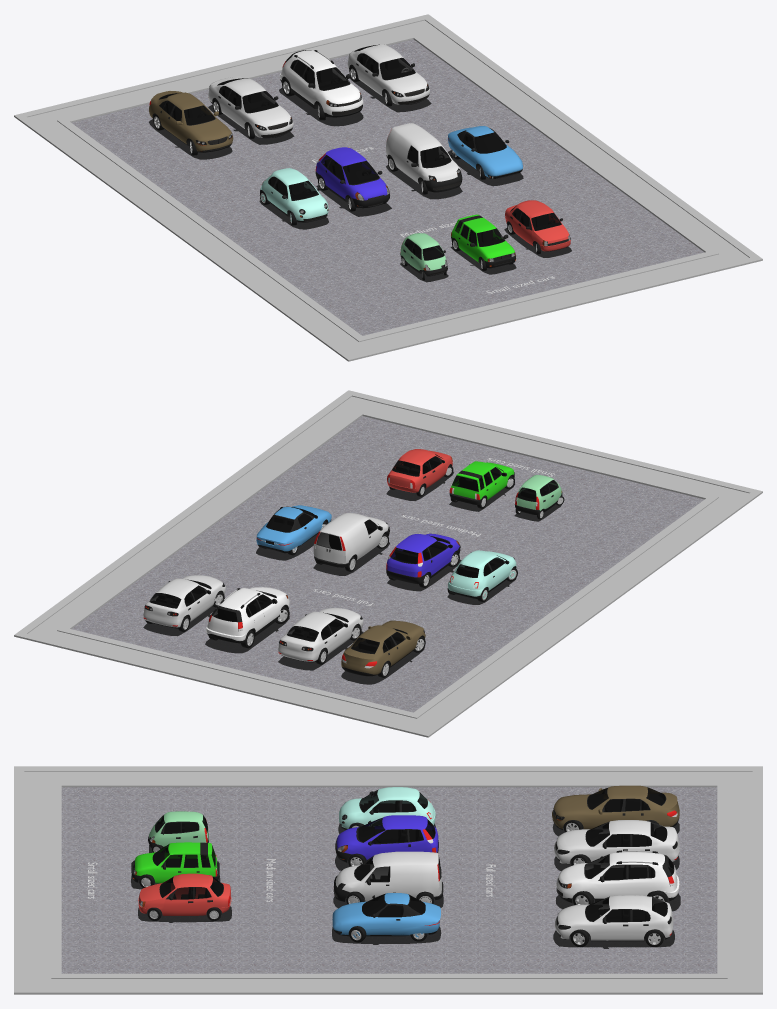
Rendered from TrafficCarPack.fbx.
3 renders of one model, top to bottom at view 1: azimuth 30°, elevation 25°; view 2: azimuth 150°, elevation 25°; view 3: azimuth 270°, elevation 25°, orthographic. The views are drawn at different scales.
Visible parts, largest first — view 1: Ground, CarBody.001, CarBody.009, CarBody.003, CarBody.002, CarBody2, CarBody.008, CarBody, CarBody.006, CarBody.004, CarBody.007, CarBody.005 (+3 smaller); view 2: Ground, CarBody.001, CarBody.002, CarBody.003, CarBody.009, CarBody2, CarBody.008, CarBody, CarBody.006, CarBody.004, CarBody.007, CarBody.005 (+3 smaller); view 3: Ground, CarBody.001, CarBody2, CarBody.009, CarBody.002, CarBody.003, CarBody, CarBody.008, CarBody.004, CarBody.007, CarBody.006, CarBody.005 (+3 smaller).
Part boxes in pixels (x1,y1,x2,y2): Ground: [14, 14, 762, 361]; CarBody.001: [279, 50, 363, 117]; CarBody.009: [386, 123, 462, 192]; CarBody.003: [208, 76, 293, 138]; CarBody.002: [149, 91, 233, 152]; CarBody2: [347, 44, 429, 104]; CarBody.008: [315, 147, 389, 208]; CarBody: [447, 126, 522, 178]; CarBody.006: [260, 168, 328, 222]; CarBody.004: [505, 200, 570, 251]; CarBody.007: [451, 214, 515, 268]; CarBody.005: [400, 233, 447, 276]; Ground: [14, 390, 762, 737]; CarBody.001: [206, 587, 289, 643]; CarBody.002: [341, 620, 425, 676]; CarBody.003: [278, 608, 363, 662]; CarBody.009: [313, 512, 389, 567]; CarBody2: [143, 575, 225, 628]; CarBody.008: [386, 533, 460, 584]; CarBody: [256, 505, 331, 553]; CarBody.006: [447, 550, 516, 598]; CarBody.004: [387, 449, 452, 492]; CarBody.007: [449, 461, 514, 504]; CarBody.005: [514, 475, 562, 514]; Ground: [14, 766, 762, 994]; CarBody.001: [556, 850, 679, 902]; CarBody2: [555, 895, 673, 941]; CarBody.009: [333, 851, 443, 901]; CarBody.002: [552, 785, 679, 830]; CarBody.003: [554, 820, 679, 864]; CarBody: [332, 892, 440, 936]; CarBody.008: [335, 815, 438, 862]; CarBody.004: [138, 873, 231, 915]; CarBody.007: [131, 842, 219, 883]; CarBody.006: [339, 787, 435, 829]; CarBody.005: [148, 811, 208, 847].
Bounding box in the file's own units: 3899 × 367 × 5452.
